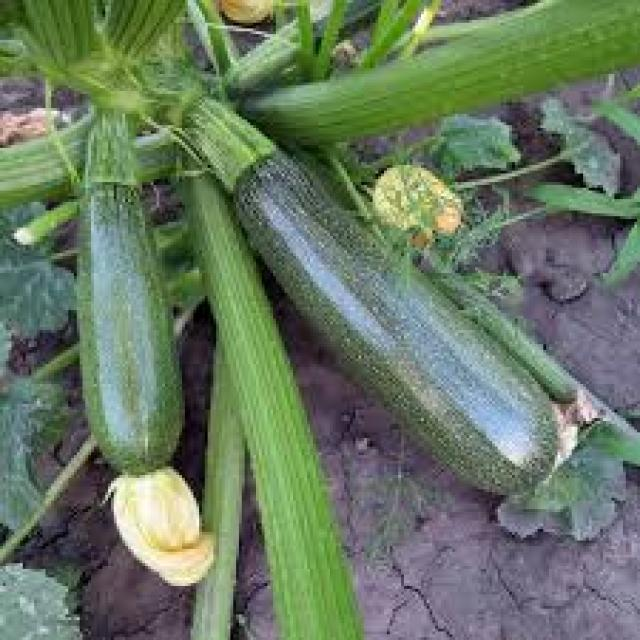Zucchini: (79, 112, 183, 462)
